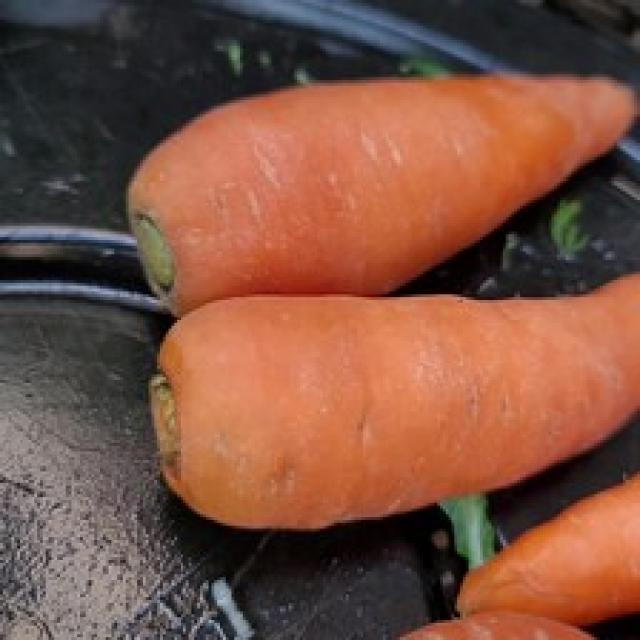carrot: (146, 262, 640, 533), (134, 70, 636, 296)
